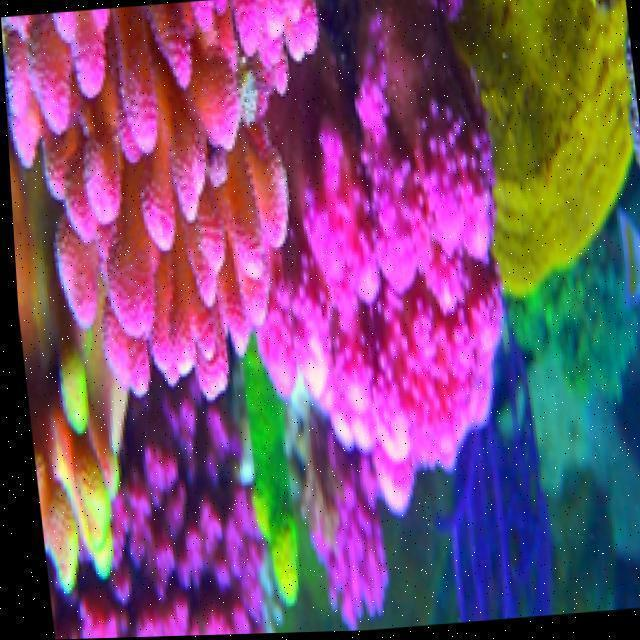Healthy Coral: (235, 24, 546, 524), (0, 0, 338, 439), (10, 212, 261, 640)
